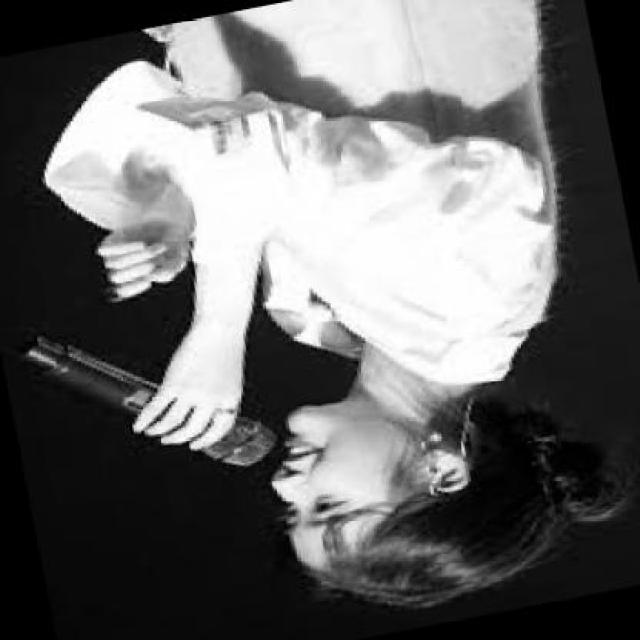earphone: (424, 443, 473, 490)
